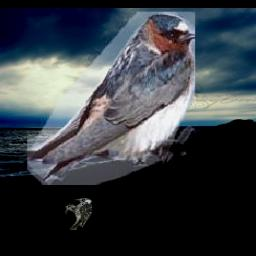Swallow: (27, 12, 195, 185)
Woodpecker: (65, 198, 92, 230)
